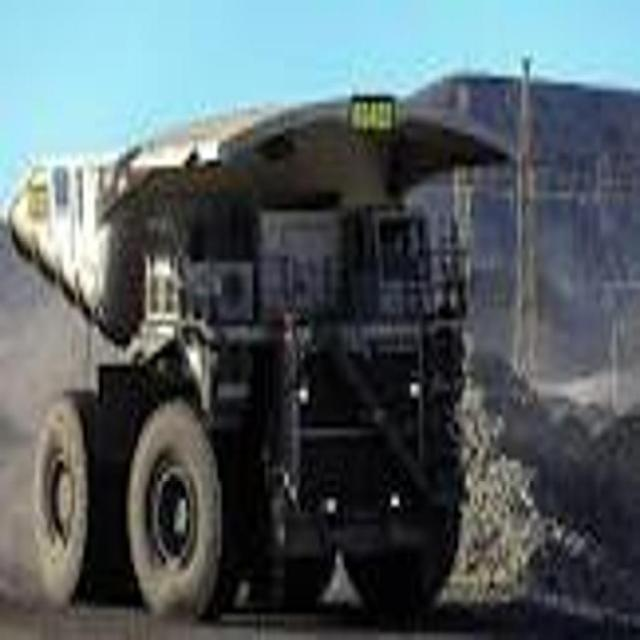dump_truck: (3, 84, 514, 640)
